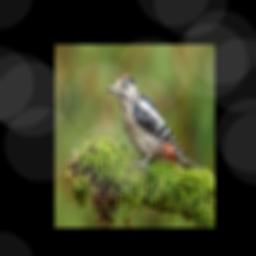Woodpecker: (107, 75, 200, 171)
